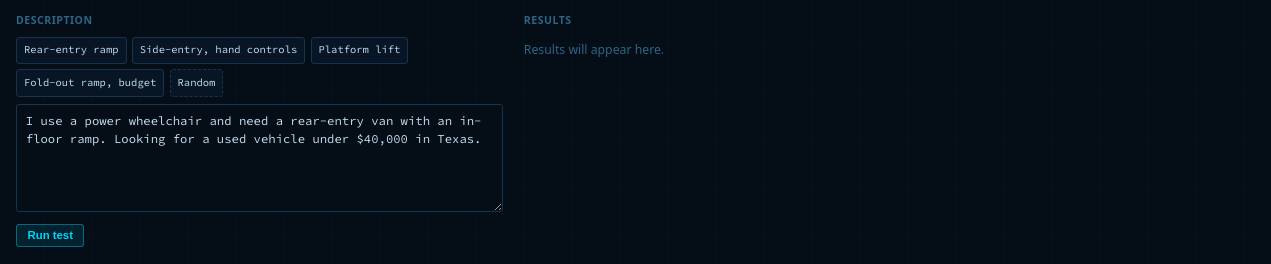
Test: IntakeTestPanel › should show a generic Ollama error with its message
Click the button "Run test". click: (50, 235)
box: [16,224,84,247]
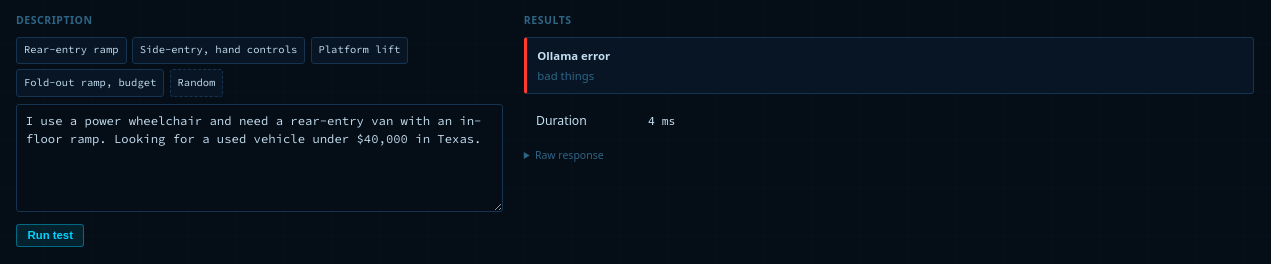
Check: the text "Ollama error" is shown, box [537,48,610,63]
Check: the text "bad things" is shown, box [537,68,594,83]
